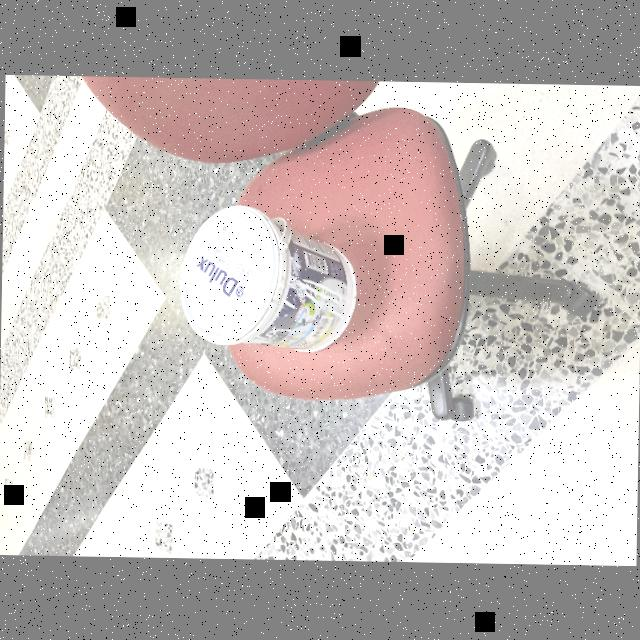cardboard_box: (161, 198, 362, 362)
